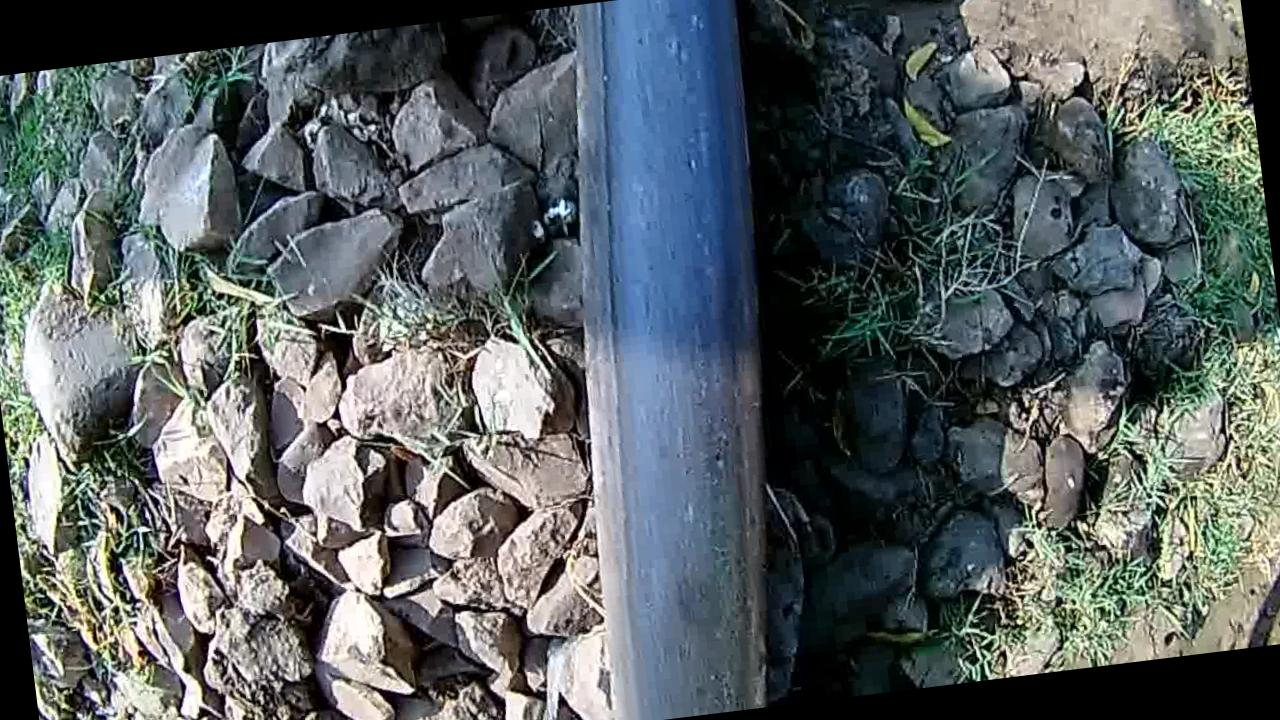bolt_missing: (606, 452, 774, 720)
